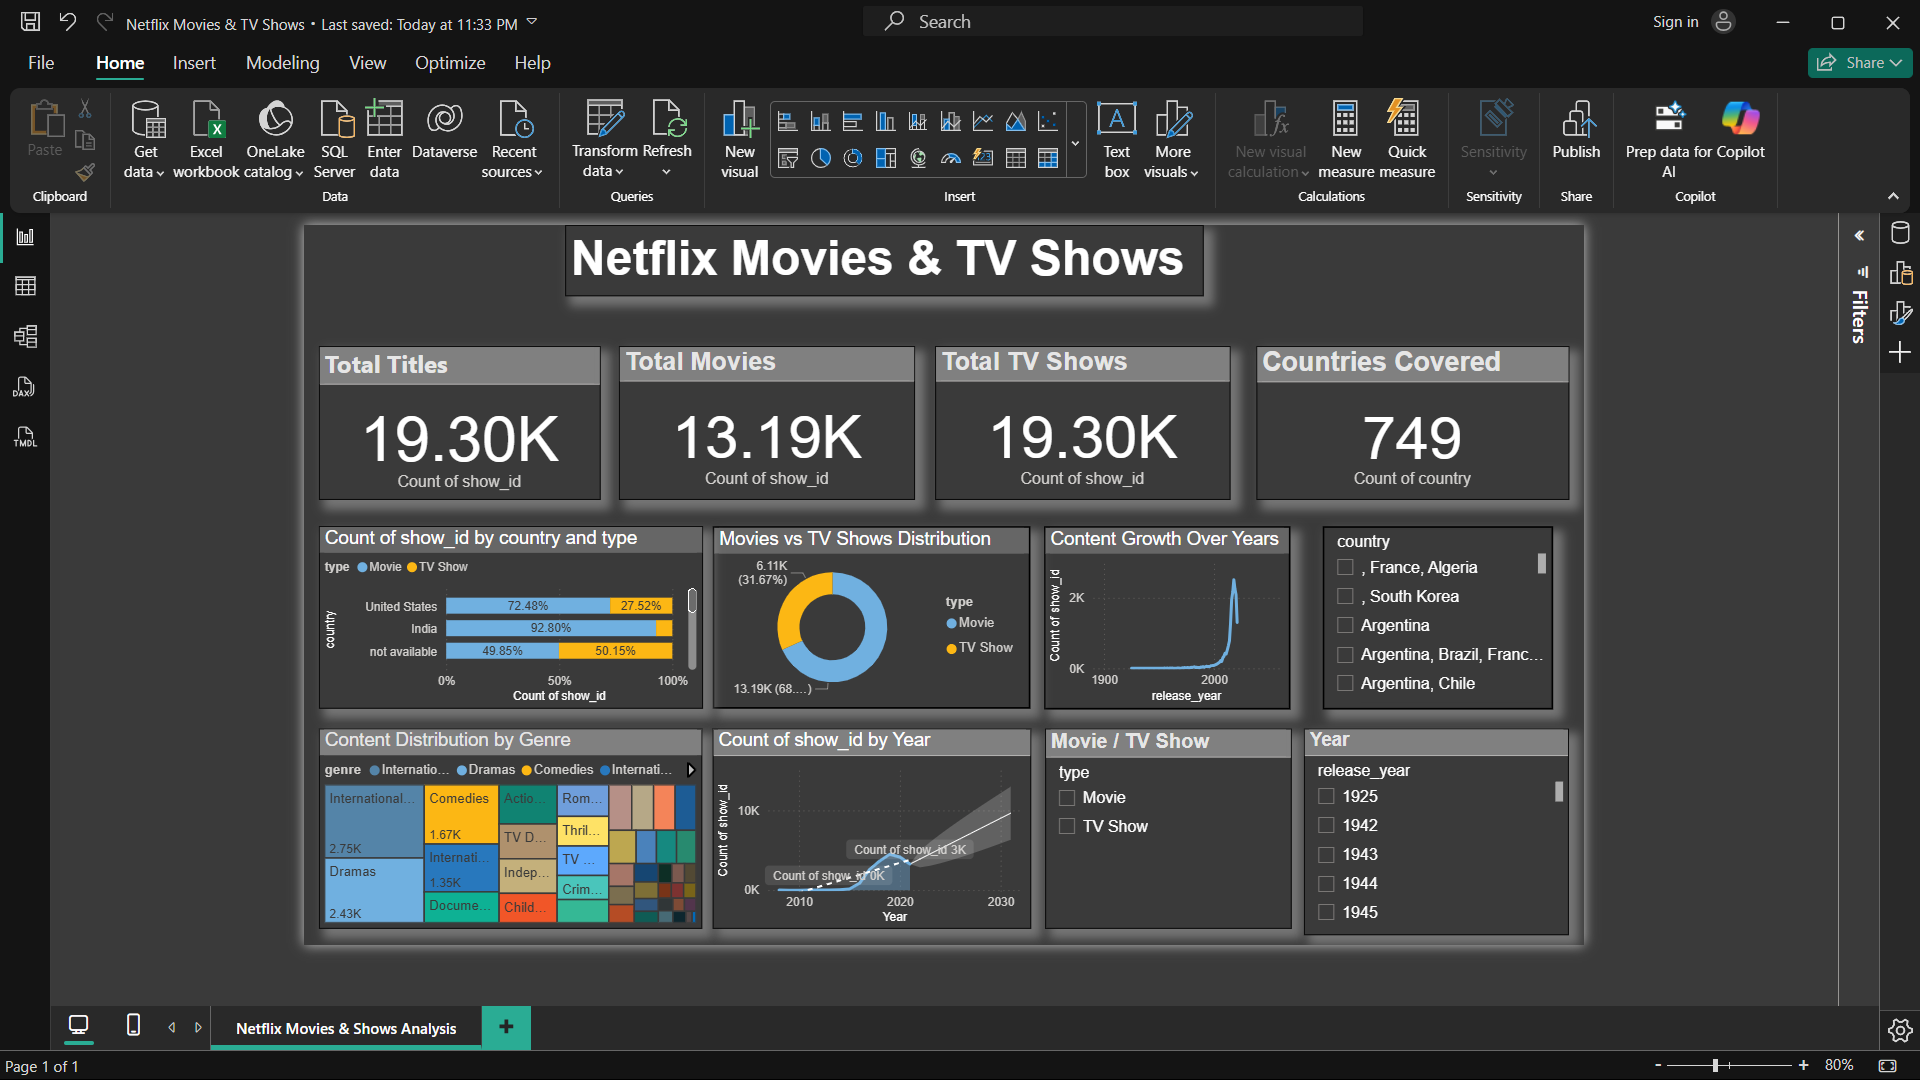

This screenshot's page, from the dashboard's own definition file:
{"tool":"powerbi","page":{"name":"Netflix Movies & Shows Analysis","canvas":[1280,720],"ordinal":0},"visuals":[{"type":"textbox","box":[261.2,0,638.8,71.2],"z":0},{"type":"card","title":"Total Titles","fields":{"Values":["CountNonNull(Sheet1.show_id)"]},"box":[15,121.2,281.2,153.8],"z":1000},{"type":"card","title":"Total Movies ","fields":{"Values":["CountNonNull(Sheet1.show_id)"]},"box":[315,121.2,296.2,153.8],"z":2000},{"type":"card","title":"Total TV Shows","fields":{"Values":["CountNonNull(Sheet1.show_id)"]},"box":[631.2,121.2,295,153.8],"z":3000},{"type":"card","title":"Countries Covered","fields":{"Values":["Count(Sheet1.country)"]},"box":[952.5,121.2,312.5,153.8],"z":4000},{"type":"lineChart","title":"Content Growth Over Years","fields":{"Category":["Sheet1.release_year"],"Y":["CountNonNull(Sheet1.show_id)"]},"box":[740,301.7,246.7,183.3],"z":5000},{"type":"donutChart","title":"Movies vs TV Shows Distribution","fields":{"Category":["Sheet1.type"],"Y":["CountNonNull(Sheet1.show_id)"]},"box":[408.8,301.2,317.5,182.5],"z":6000},{"type":"hundredPercentStackedBarChart","fields":{"Category":["Sheet1.country"],"Y":["CountNonNull(Sheet1.show_id)"],"Series":["Sheet1.type"]},"box":[15,301.2,383.8,182.5],"z":7000},{"type":"treemap","title":"Content Distribution by Genre","fields":{"Group":["Sheet1.genre"],"Values":["CountNonNull(Sheet1.show_id)"]},"box":[15,503.3,383.3,200],"z":8000},{"type":"lineChart","fields":{"Category":["Sheet1.date_added.Variation.Date Hierarchy.Year"],"Y":["CountNonNull(Sheet1.show_id)"]},"box":[408.3,503.3,318.3,200],"z":9000},{"type":"slicer","title":" Movie / TV Show","fields":{"Values":["Sheet1.type"]},"box":[741.2,503.8,246.2,200],"z":10000},{"type":"slicer","title":"Year","fields":{"Values":["Sheet1.release_year"]},"box":[1000,503.3,265,206.7],"z":11000},{"type":"slicer","fields":{"Values":["Sheet1.country"]},"box":[1018.3,301.7,230,183.3],"z":12000}]}

Visuals, with their boxes on the page's 1280x720 design canvas (x1, y1, x2, y2). These are canvas units, not pixel positions in the 1920x1080 screenshot, which may show the page scaled, cropped or inside an application window:
textbox: rect(261, 0, 900, 71)
"Total Titles" card: rect(15, 121, 296, 275)
"Total Movies " card: rect(315, 121, 611, 275)
"Total TV Shows" card: rect(631, 121, 926, 275)
"Countries Covered" card: rect(952, 121, 1265, 275)
"Content Growth Over Years" lineChart: rect(740, 302, 987, 485)
"Movies vs TV Shows Distribution" donutChart: rect(409, 301, 726, 484)
hundredPercentStackedBarChart - Sheet1.country x CountNonNull(Sheet1.show_id): rect(15, 301, 399, 484)
"Content Distribution by Genre" treemap: rect(15, 503, 398, 703)
lineChart - Sheet1.date_added.Variation.Date Hierarchy.Year x CountNonNull(Sheet1.show_id): rect(408, 503, 727, 703)
" Movie / TV Show" slicer: rect(741, 504, 987, 704)
"Year" slicer: rect(1000, 503, 1265, 710)
slicer - Sheet1.country: rect(1018, 302, 1248, 485)
